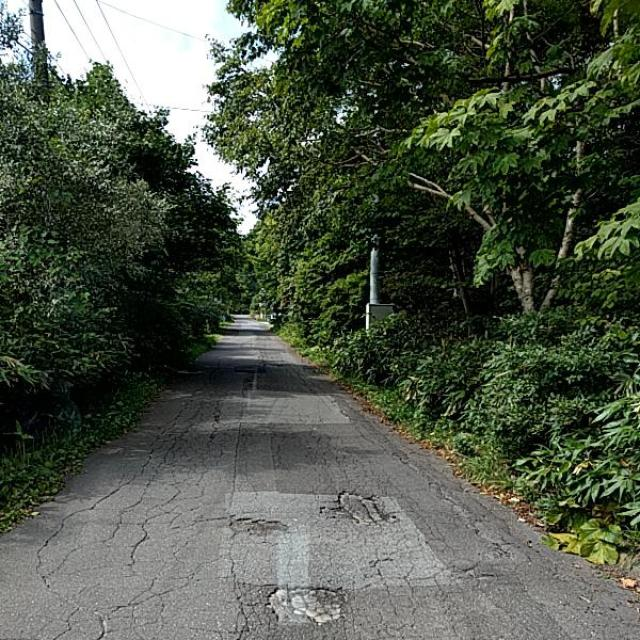Crack: (97, 358, 235, 640), (340, 411, 556, 562)
Surface Erosion: (230, 494, 468, 640)
